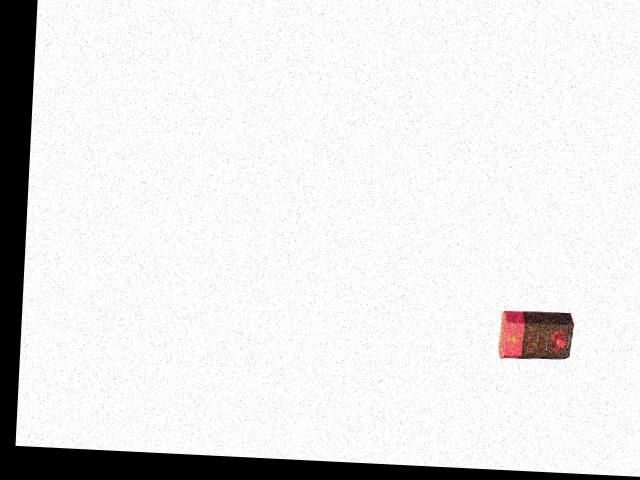chocolate: (495, 307, 581, 362)
